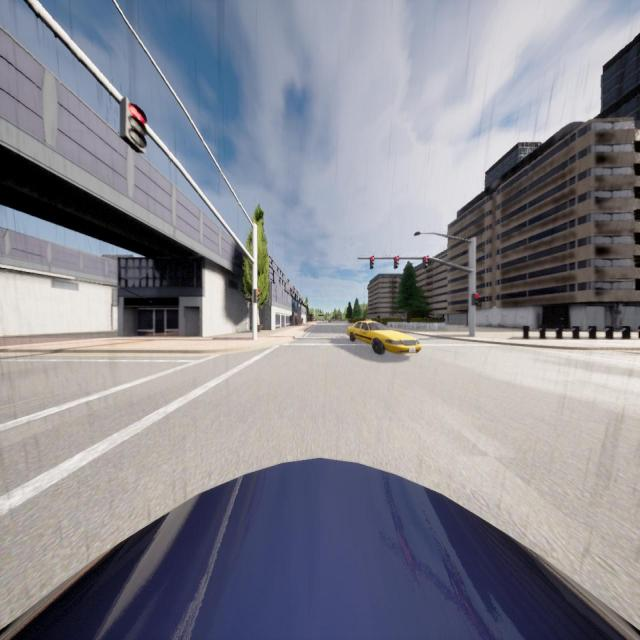Vehicle: (0, 456, 640, 640), (347, 318, 422, 354)
traffic_light: (120, 96, 147, 154), (254, 289, 259, 303), (472, 294, 478, 305), (394, 256, 399, 269), (423, 257, 428, 269), (370, 256, 374, 269)
